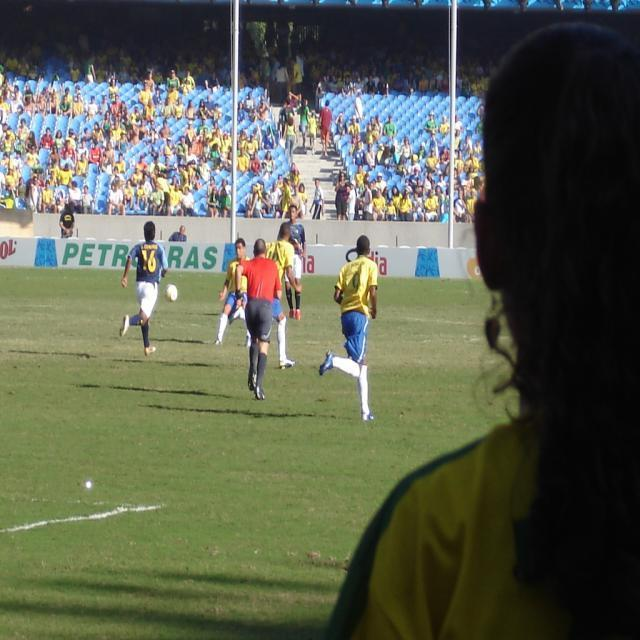football: (159, 284, 188, 313)
